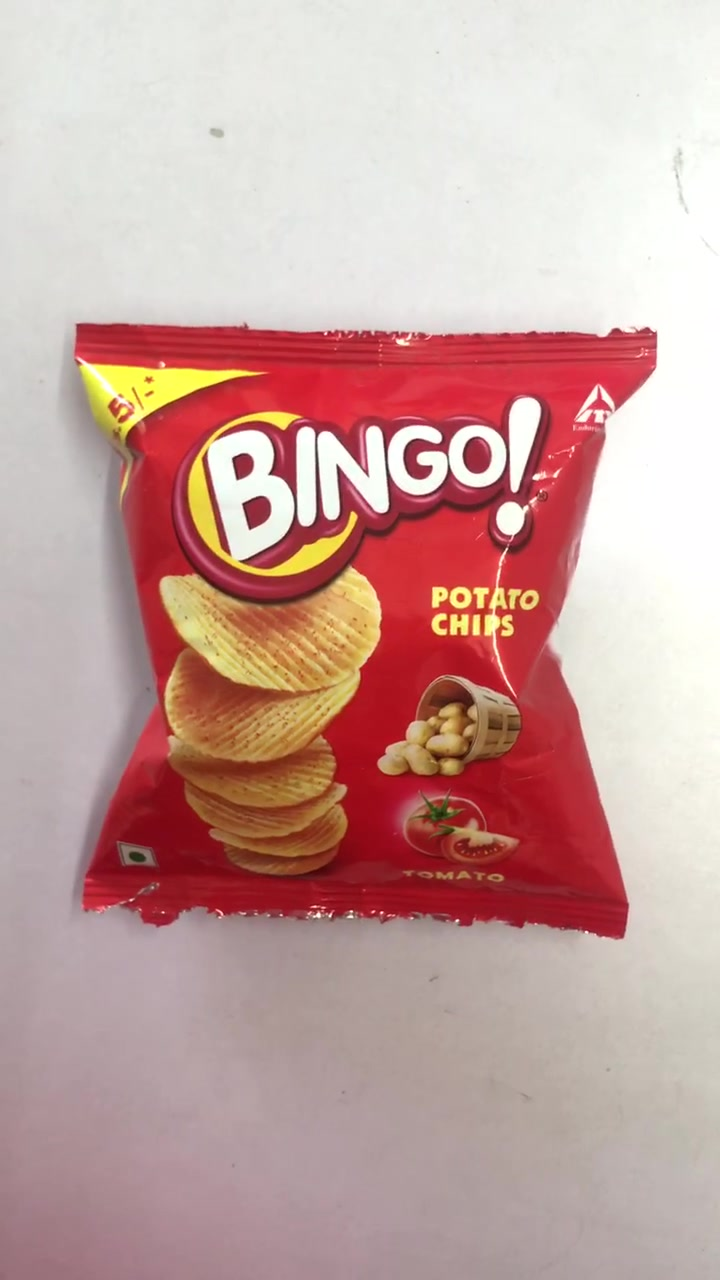Bingo: (80, 321, 660, 943)
